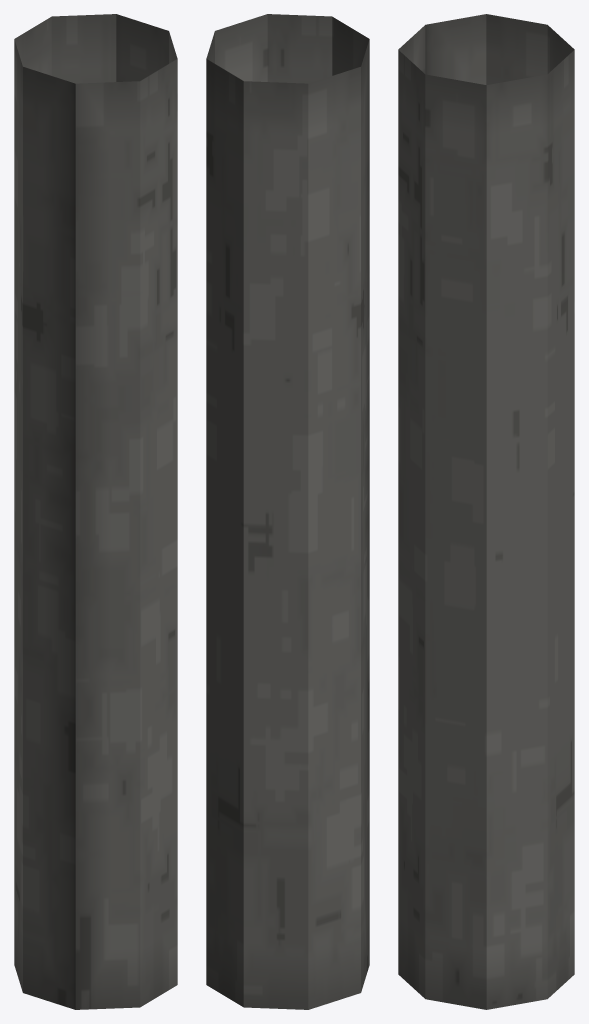
File: BuildingColumn.fbx
3 renders of one model, left to right at view 1: azimuth 30°, elevation 25°; view 2: azimuth 150°, elevation 25°; view 3: azimuth 270°, elevation 25°, orthographic.
Parts seen in each view (by area): view 1: Cube; view 2: Cube; view 3: Cube.
Part boxes in pixels (<box>): Cube: <box>14,14,177,1009</box>; Cube: <box>206,14,369,1009</box>; Cube: <box>398,14,574,1009</box>.
Size of the model in its own units: 99.57 by 603 by 104.
